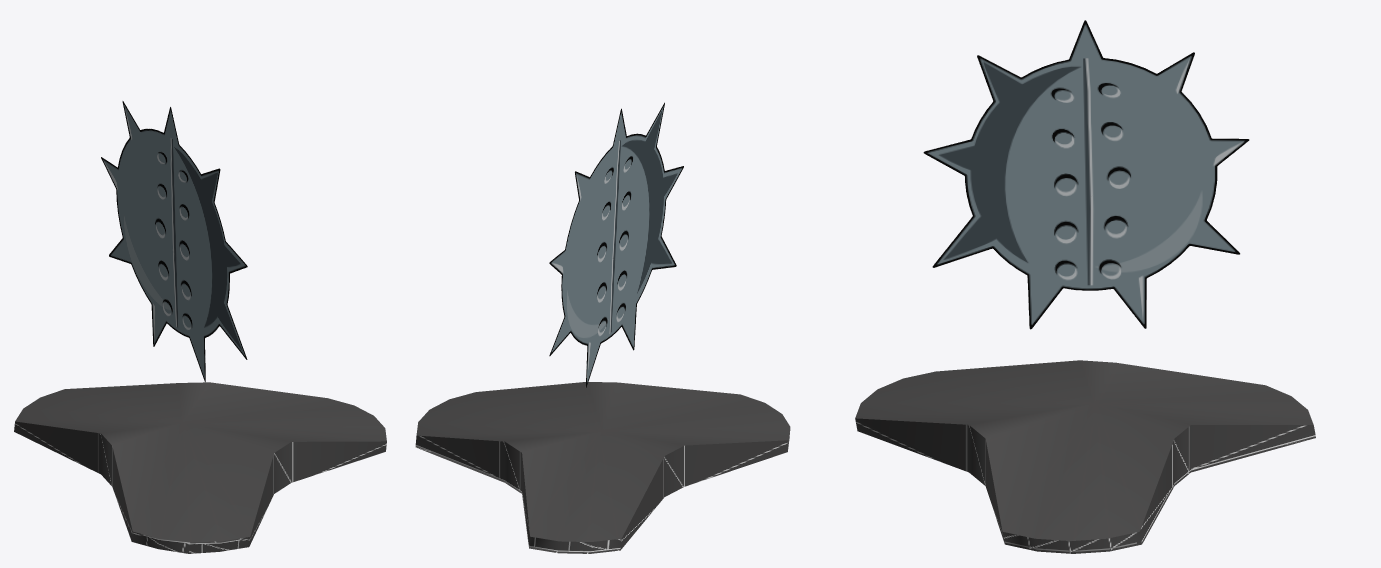
Rendered from powerup.obj.
3 renders of one model, left to right at view 1: azimuth 30°, elevation 25°; view 2: azimuth 150°, elevation 25°; view 3: azimuth 270°, elevation 25°, orthographic. The views are drawn at different scales.
Visible parts, largest first — view 1: polySurface6; view 2: polySurface6; view 3: polySurface6.
Part boxes in pixels (x1,y1,x2,y2): polySurface6: (14, 101, 386, 553); polySurface6: (415, 102, 790, 553); polySurface6: (855, 20, 1315, 553).
Bounding box in the file's own units: 6.8 × 8.71 × 9.27.
1 material, 1 textured.
